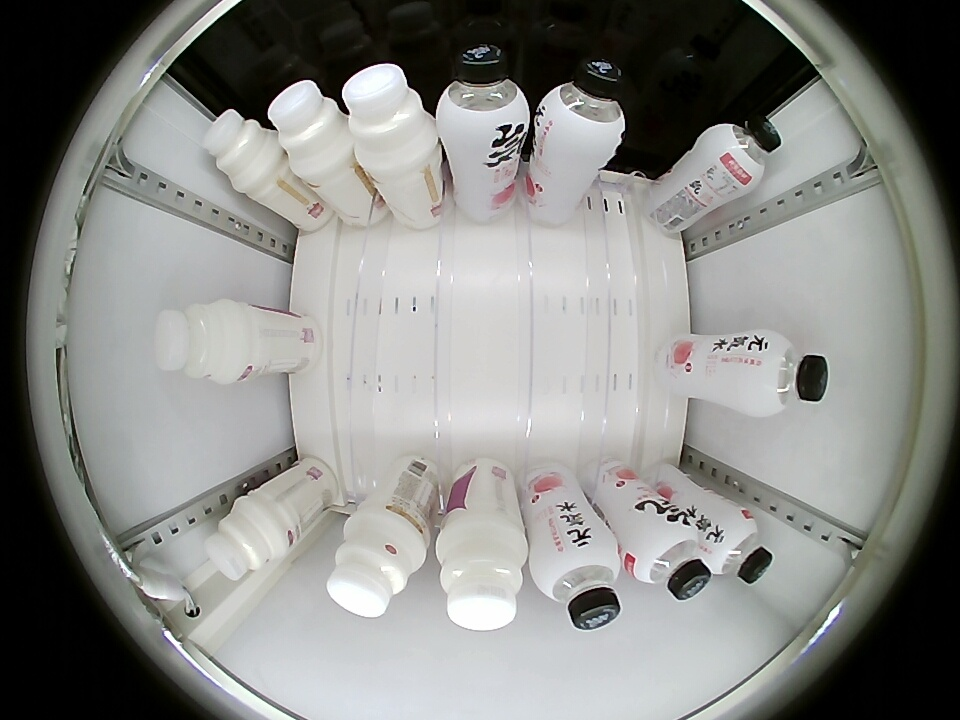yingyangkuaixian: (327, 510, 427, 618), (342, 64, 440, 172), (436, 518, 529, 631), (268, 80, 355, 180), (154, 299, 250, 385), (206, 493, 291, 580), (204, 109, 283, 194)
yuanqishui: (436, 42, 530, 147), (534, 56, 628, 158), (529, 531, 623, 629), (623, 512, 712, 601), (740, 330, 829, 416), (704, 112, 783, 190), (701, 506, 774, 584)
